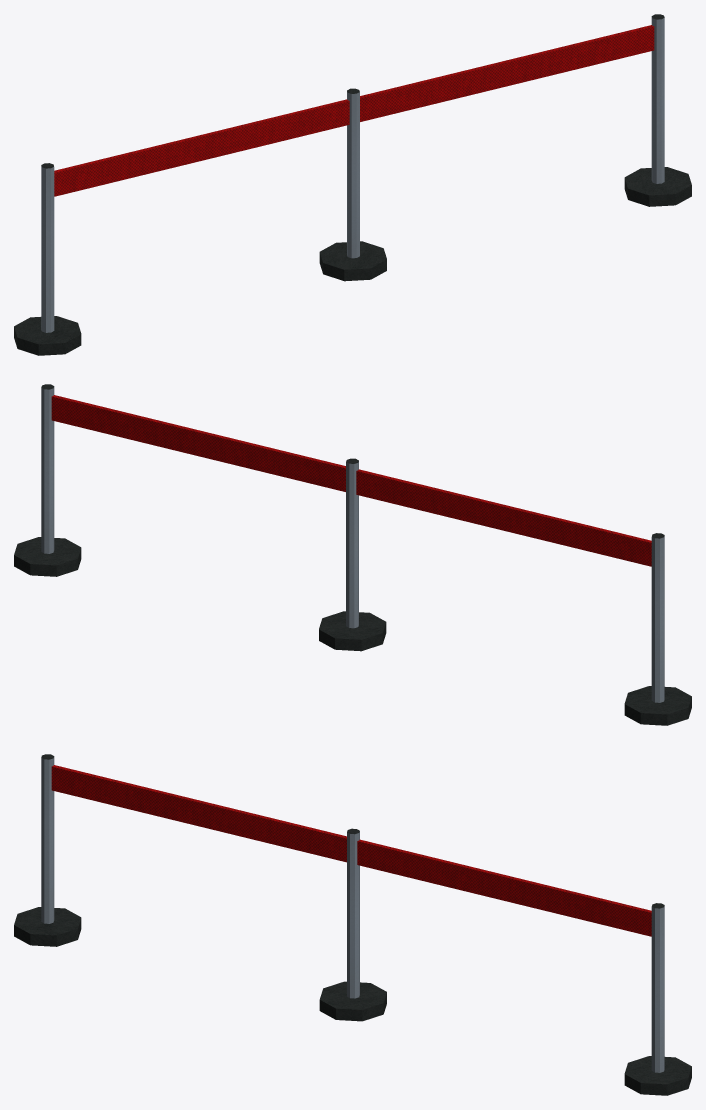
File: NoPasarDoble.fbx
3 views of the same model, one above another, from view 1: azimuth 30°, elevation 25°; view 2: azimuth 150°, elevation 25°; view 3: azimuth 330°, elevation 25° (orthographic).
Visible parts, largest first — view 1: NoPasarDoble; view 2: NoPasarDoble; view 3: NoPasarDoble.
Boxes of the visible parts, x1,y1,x2,y2 form: NoPasarDoble: (14, 14, 691, 355); NoPasarDoble: (14, 384, 691, 725); NoPasarDoble: (14, 754, 691, 1095).
Size of the model in its own units: 387 by 96.9 by 34.91.
